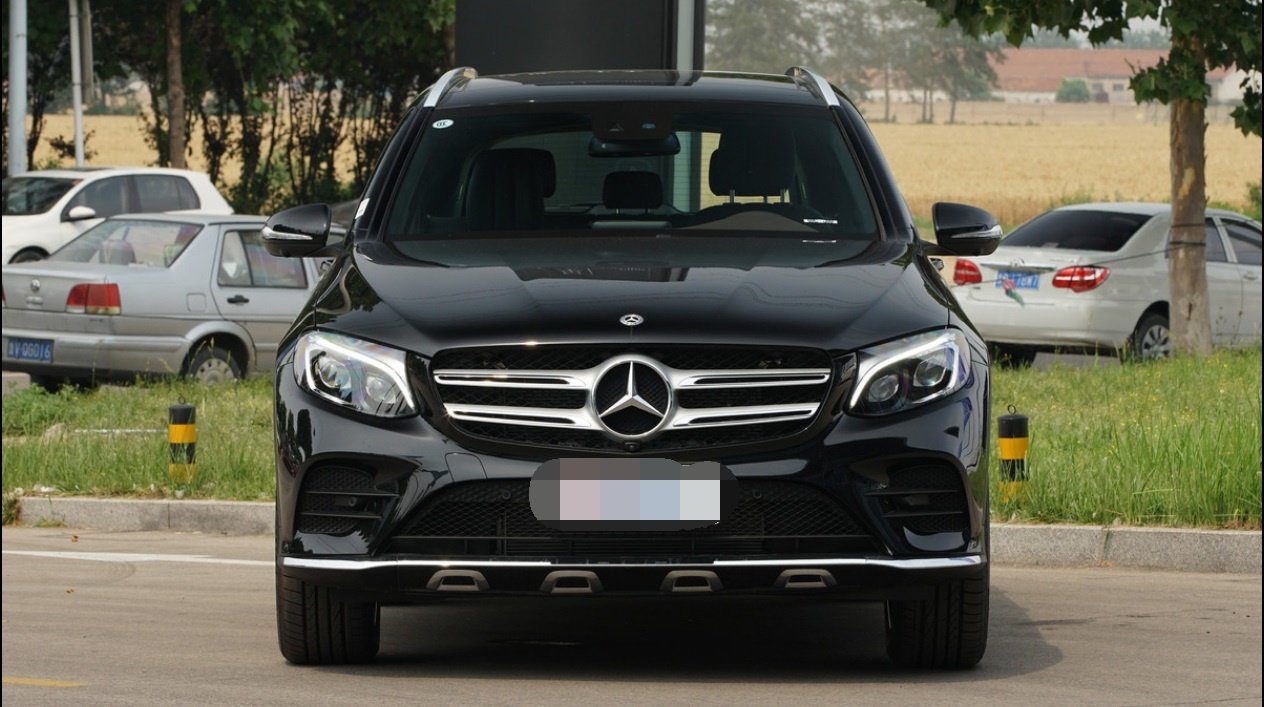SUV: (250, 33, 1009, 670)
